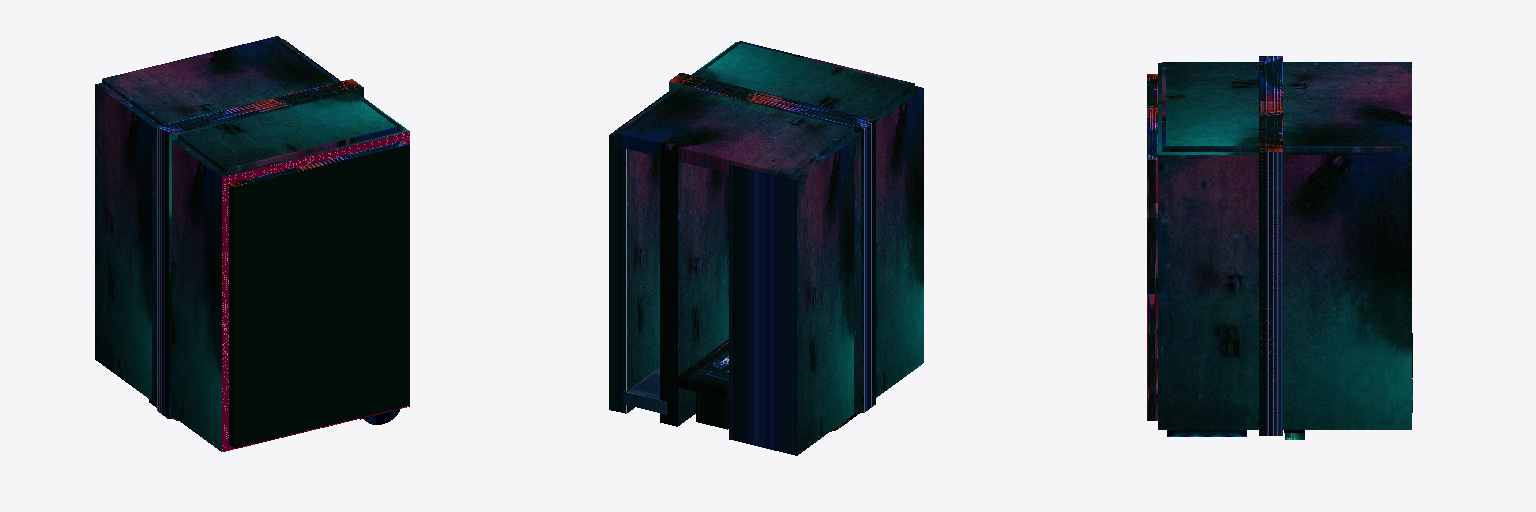
3 views of the same model, side by side, from view 1: azimuth 30°, elevation 25°; view 2: azimuth 150°, elevation 25°; view 3: azimuth 270°, elevation 25° (orthographic).
Bounding box in the file's own units: 123 × 183 × 145.
Materials: 15 (14 with a texture image).